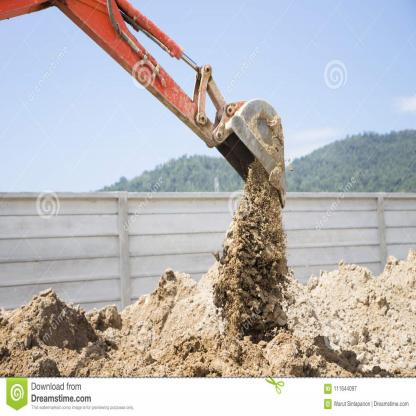excavator: (2, 3, 287, 215)
